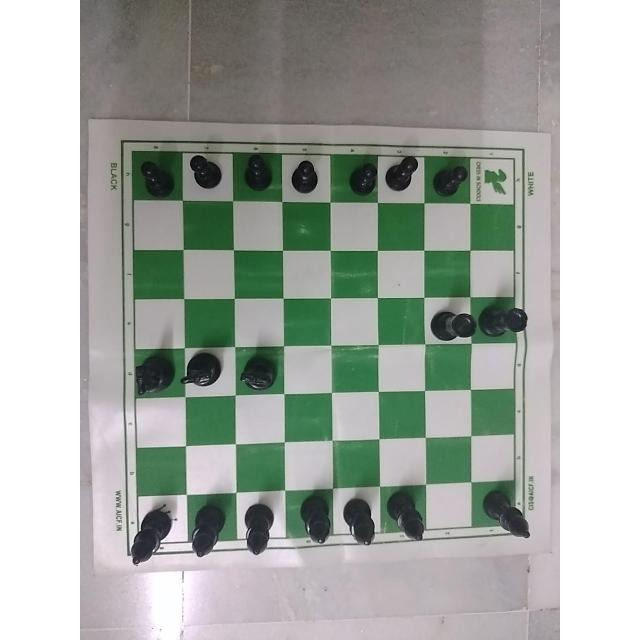black-bishop: (119, 504, 174, 577), (237, 490, 283, 570), (179, 504, 231, 570), (481, 490, 535, 546), (382, 489, 432, 546), (295, 492, 333, 552), (342, 490, 375, 546)
black-knight: (179, 340, 229, 400), (238, 337, 286, 398), (132, 343, 176, 403)
black-pawn: (235, 153, 282, 201), (136, 154, 178, 205), (434, 148, 470, 202), (184, 151, 230, 192), (342, 155, 384, 199), (288, 150, 321, 196), (390, 154, 422, 196)
black-rook: (421, 295, 473, 348), (482, 296, 532, 344)
